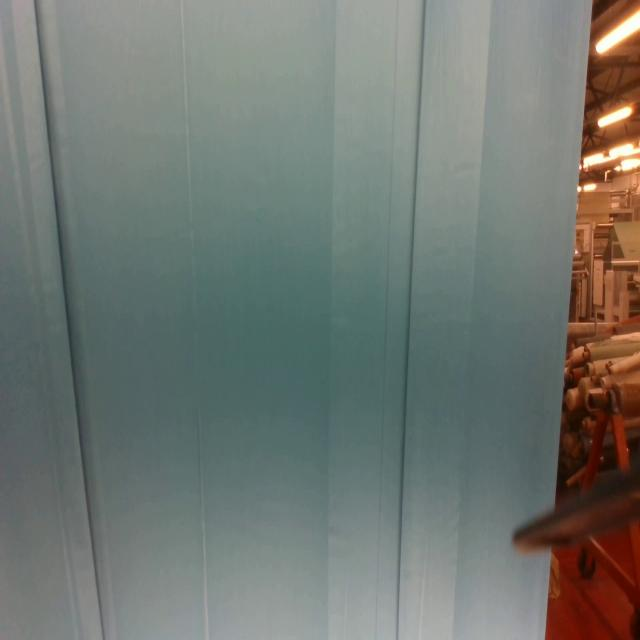crease: (35, 0, 106, 640), (372, 0, 430, 640), (179, 1, 211, 640)
